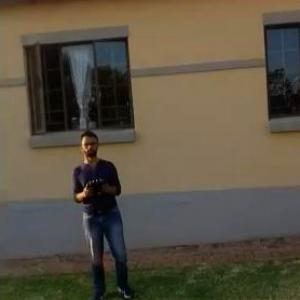follow: (71, 123, 139, 299)
